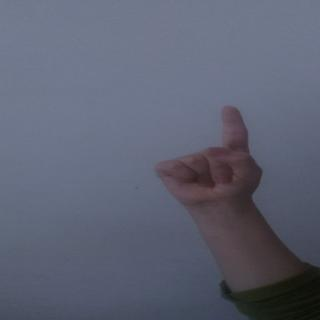BAA: (142, 105, 290, 219)
